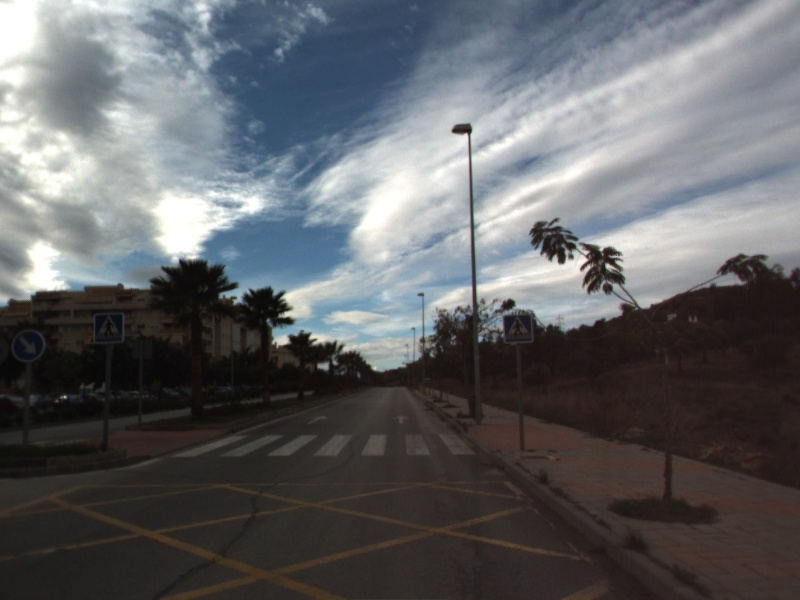STRAIGHT: (305, 413, 330, 426), (391, 413, 411, 426)
